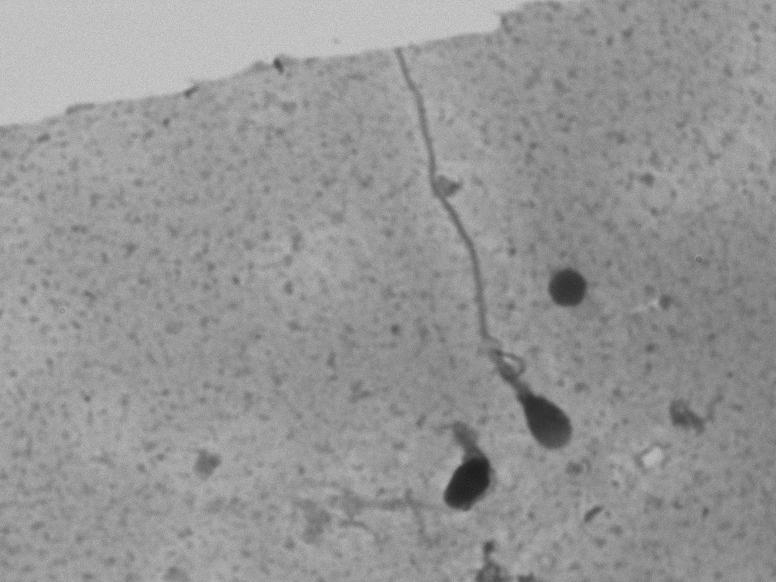Abnormal: (372, 67, 587, 467)
